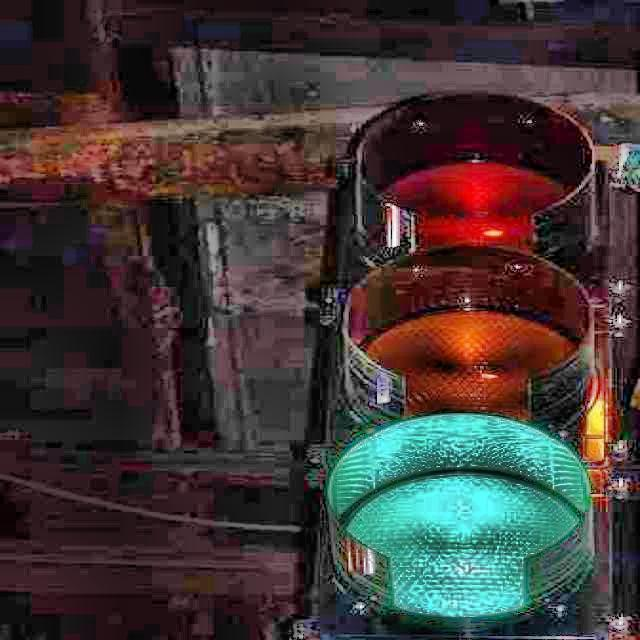green: (351, 90, 609, 640)
